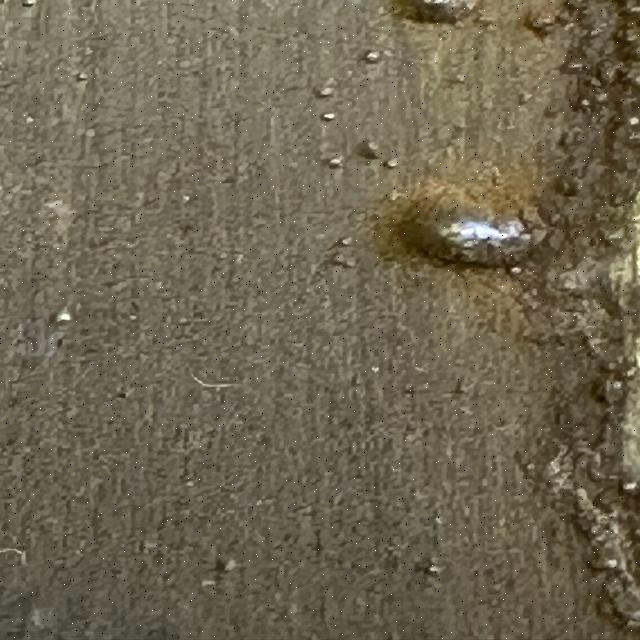Excess Reinforcement: (538, 0, 638, 630)
Spatters: (398, 189, 545, 268), (393, 0, 478, 24), (523, 8, 562, 36), (313, 79, 337, 99), (355, 140, 380, 159), (332, 252, 357, 268), (322, 155, 345, 169), (55, 308, 73, 324), (621, 482, 640, 496), (364, 51, 382, 64), (222, 559, 240, 571), (427, 565, 445, 575), (336, 236, 353, 246), (320, 112, 335, 121), (385, 159, 398, 169), (22, 0, 37, 8), (580, 99, 590, 108), (217, 562, 222, 569)
